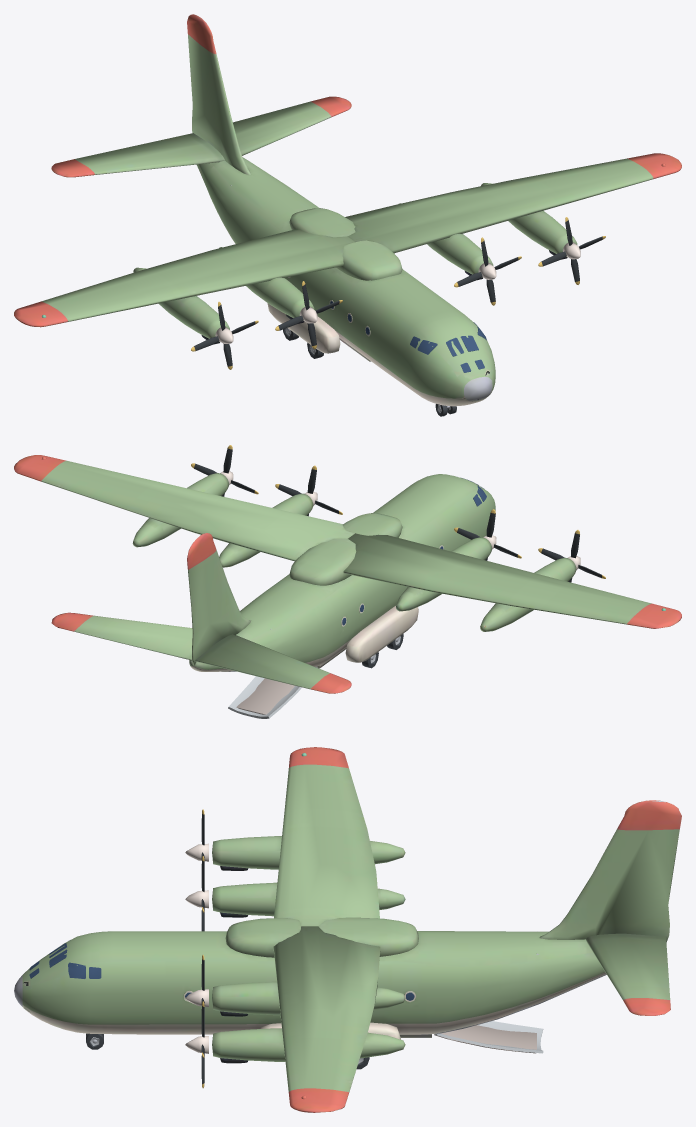
File: cargo-plane.glb
3 renders of one model, top to bottom at view 1: azimuth 30°, elevation 25°; view 2: azimuth 150°, elevation 25°; view 3: azimuth 270°, elevation 25°, orthographic. The views are drawn at different scales.
Visible parts, largest first — view 1: cargo-plane_body, cargo-plane_beacon; view 2: cargo-plane_body, cargo-plane_beacon; view 3: cargo-plane_body, cargo-plane_beacon.
Boxes of the visible parts, box(x1,y1,x2,y2) form: cargo-plane_body: box(14, 14, 681, 408); cargo-plane_beacon: box(42, 163, 665, 416); cargo-plane_body: box(14, 455, 681, 693); cargo-plane_beacon: box(42, 445, 665, 718); cargo-plane_body: box(14, 747, 681, 1112); cargo-plane_beacon: box(29, 753, 543, 1099).
Bounding box in the file's own units: 38.35 × 12.08 × 29.68.
2 materials, 2 textured.
